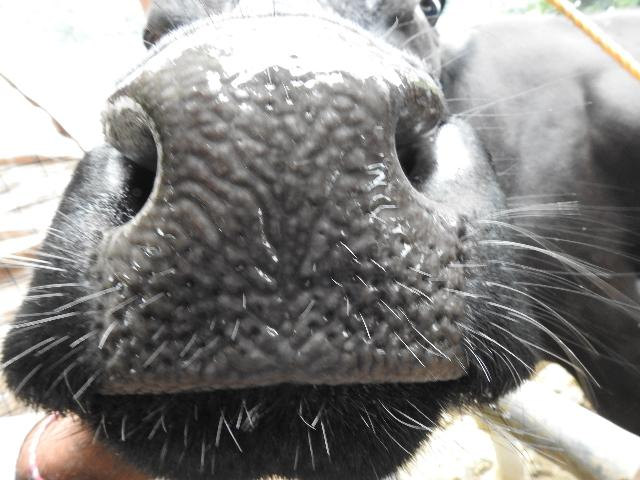Muzzle: (128, 71, 424, 380)
